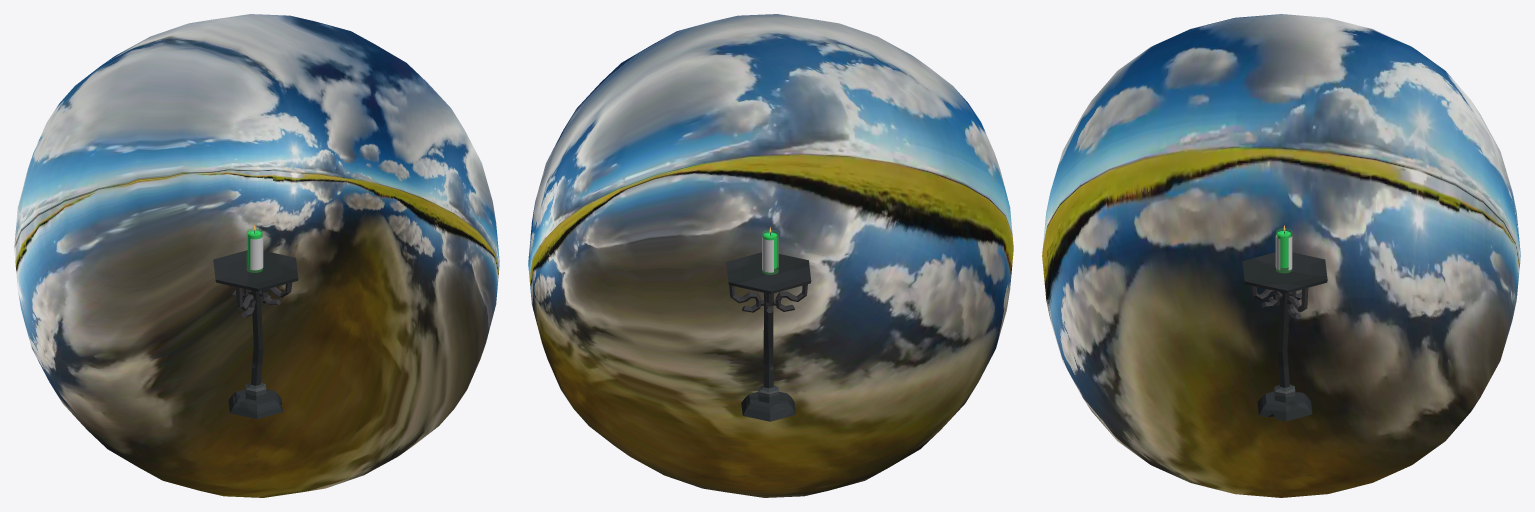
The model's file is XCandleAnimatedFlameVotive.glb.
3 views of the same model, side by side, from view 1: azimuth 30°, elevation 25°; view 2: azimuth 150°, elevation 25°; view 3: azimuth 270°, elevation 25° (orthographic).
Parts seen in each view (by area): view 1: Room, Candle_Stand; view 2: Room, Candle_Stand; view 3: Room, Candle_Stand.
Boxes of the visible parts, left/top/right/bottom form: Room: left=14, top=14, right=499, bottom=497; Candle_Stand: left=213, top=250, right=298, bottom=419; Room: left=528, top=14, right=1013, bottom=497; Candle_Stand: left=726, top=252, right=811, bottom=421; Room: left=1042, top=14, right=1520, bottom=497; Candle_Stand: left=1242, top=252, right=1327, bottom=421.
Size of the model in its own units: 24.44 by 24.44 by 24.44.
7 materials, 4 textured.
